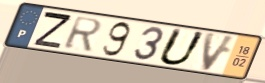3: (132, 26, 165, 62)
9: (101, 21, 132, 58)
R: (61, 15, 105, 53)
U: (155, 26, 208, 67)
V: (199, 30, 239, 74)
Z: (31, 10, 74, 50)
